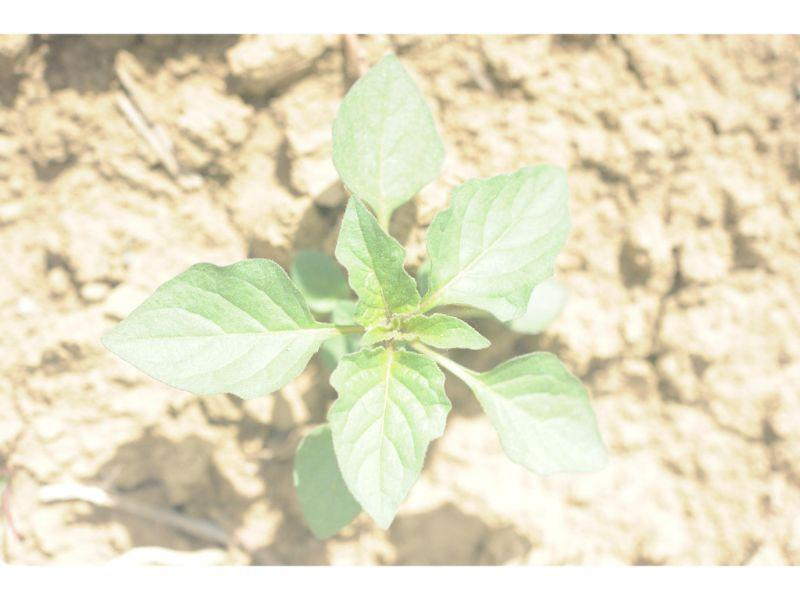nightshade: (103, 50, 608, 542)
